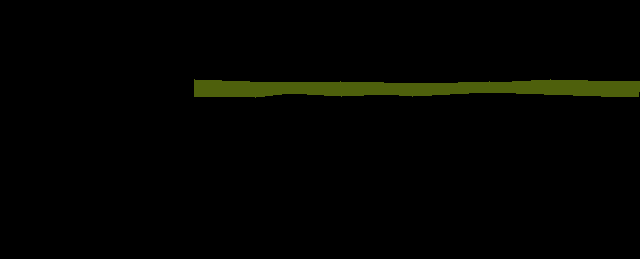Train: (194, 79, 640, 98)
